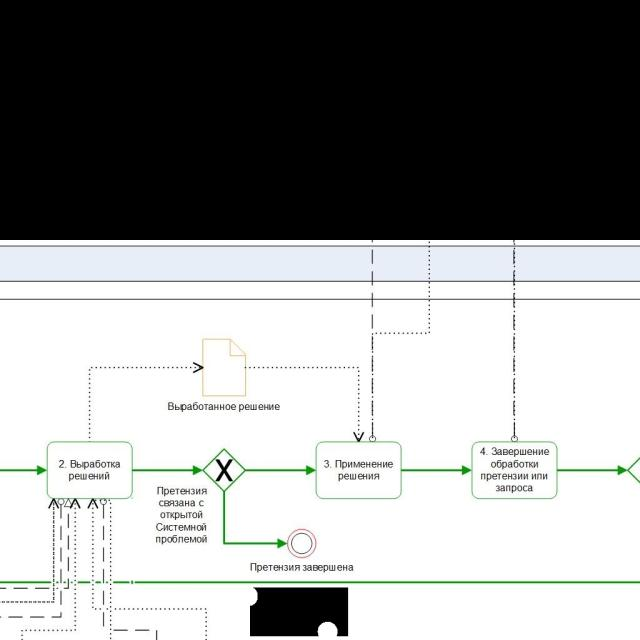arrow: (221, 490, 287, 551), (245, 462, 316, 479), (558, 462, 628, 477), (133, 462, 203, 477), (402, 464, 472, 477)
circle: (287, 529, 316, 557)
diamond: (202, 448, 246, 492)
rectangle: (46, 441, 133, 500), (315, 441, 402, 500), (471, 441, 558, 500)
text_region: (152, 484, 210, 545), (249, 560, 356, 578)
